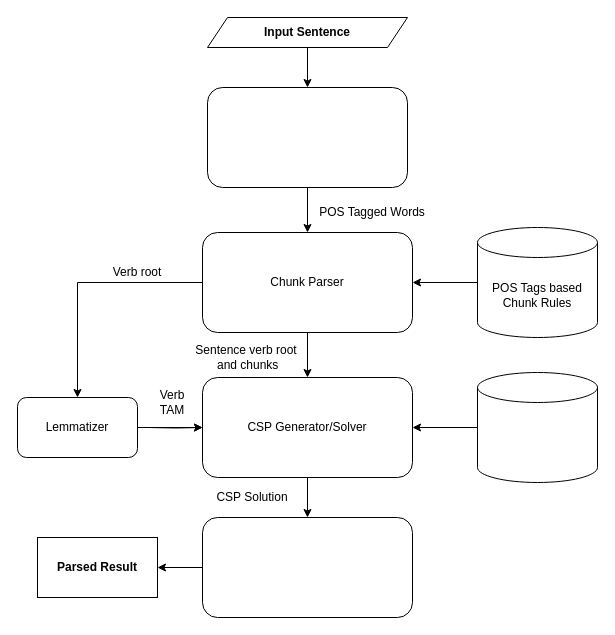
Image size: 615x635. Some labels were removed from this diagram. The shapes that lost their labels are listed below. From the top down, each one's centre as x and y in pixels, then its label:
pixel 307 137: TnT POS Tagger
pixel 537 427: Verb-Case Rules
pixel 307 567: Dependency Graph Generator
